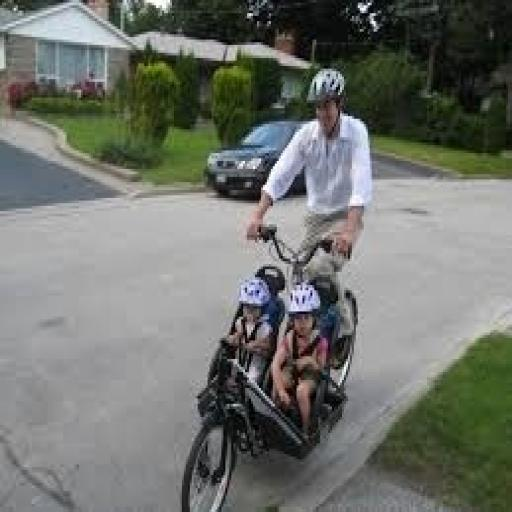cycling: (269, 280, 332, 440), (219, 274, 279, 390)
